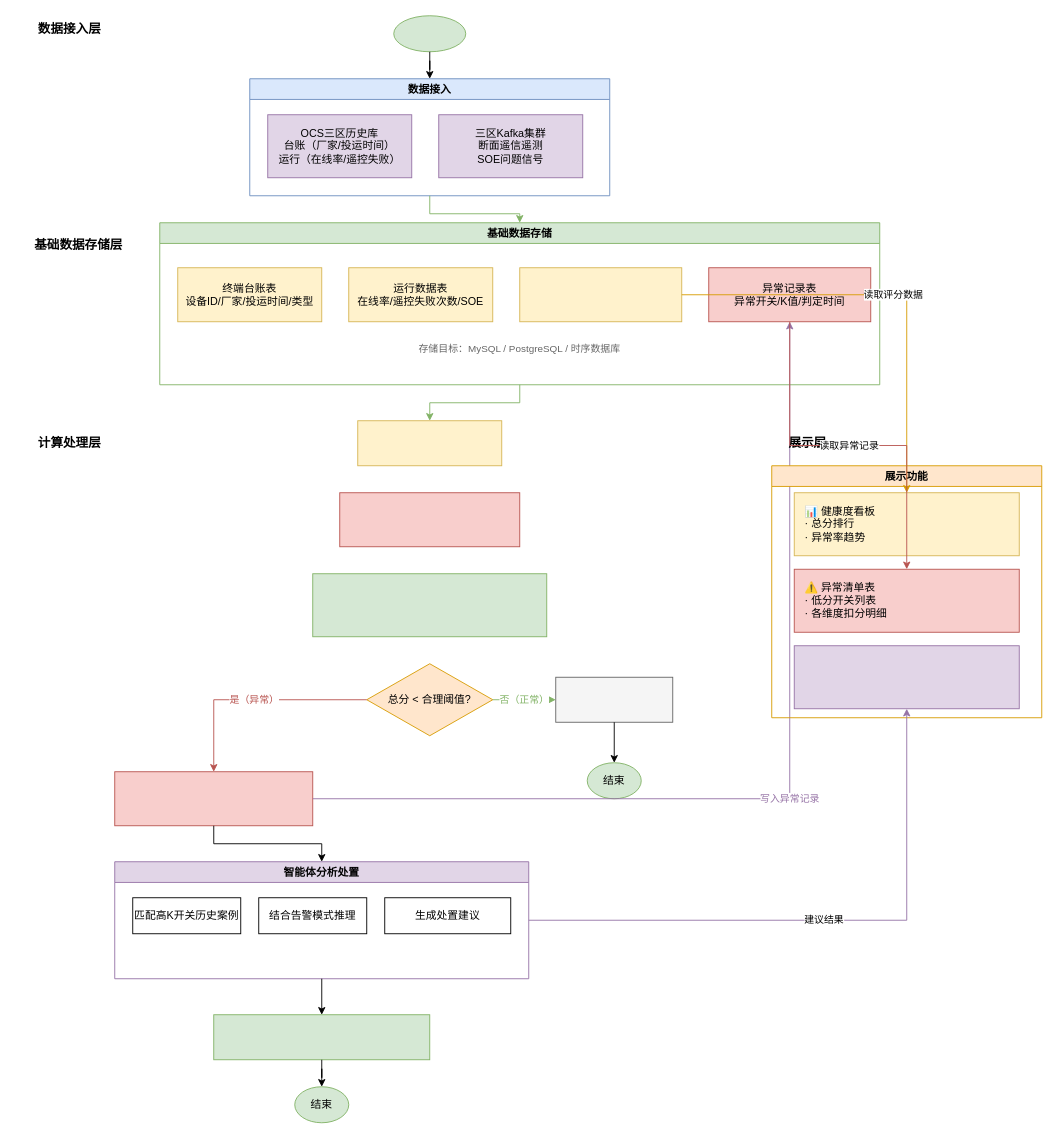
This 1058x1139 diagram has some shape labels left out. The shapes that lost their labels are listed below. From the top down, each one's centre as x and y in pixels, then its label:
the point at 429,33: 开始
the point at 600,294: 健康度评分表 各开关得分/等级/扣分明细
the point at 429,443: 按开关/终端融合数据
the point at 429,519: 获取开关系数K 自愈线路/分段/联络/频繁跳闸 → 高K
the point at 429,605: 健康度评分（每开关） 基础分 = f(在线率, 遥控失败, SOE) 总分 = 基础分 × K
the point at 906,677: 💡 智能体建议输出 · 处置建议 · 历史案例参考
the point at 614,699: 正常，不输出异常
the point at 213,798: 输出异常数据 开关ID + 开关类型 + K值 + 各维度扣分
the point at 321,1037: 输出异常开关清单 + 处置建议
